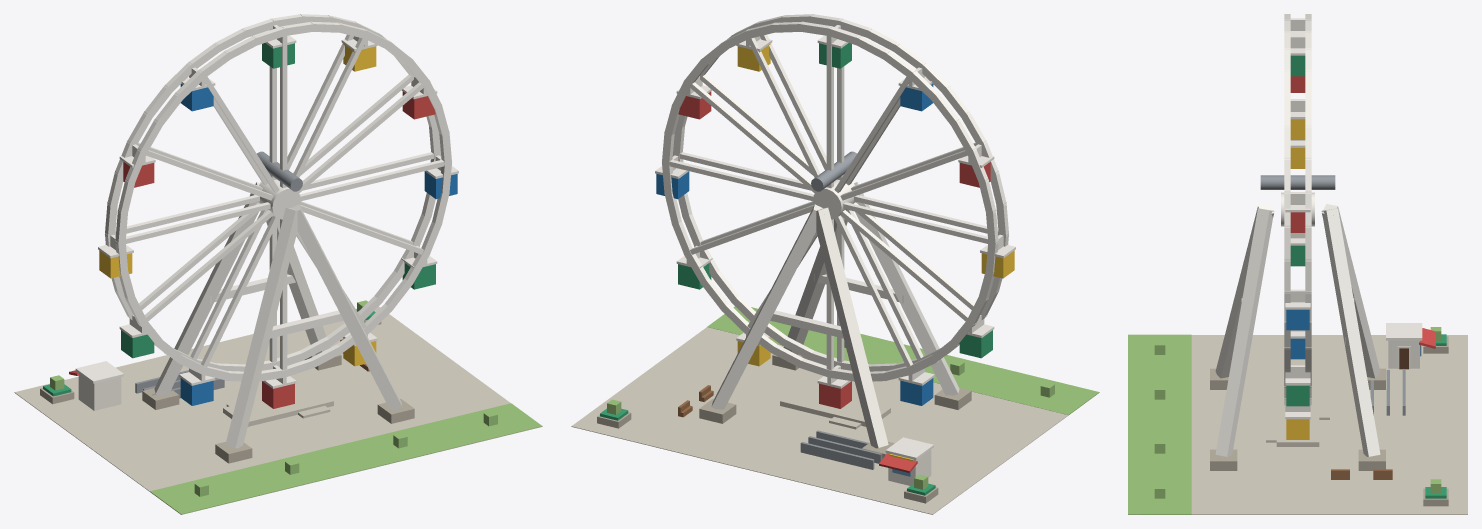
Rendered from wheel.glb.
3 views of the same model, side by side, from view 1: azimuth 30°, elevation 25°; view 2: azimuth 150°, elevation 25°; view 3: azimuth 270°, elevation 25° (orthographic).
Visible parts, largest first — view 1: plaza, spoke (×18), leg (×4), lawn, gondola_cabin (×3), boarding_platform, ticket_booth, leg_tie, hub, booth_roof, axle; view 2: plaza, spoke (×18), leg (×4), lawn, gondola_cabin (×3), boarding_platform, queue_rail (×2), leg_tie, hub, booth_roof, axle, ticket_booth; view 3: plaza, leg (×4), lawn, gondola_cabin (×3), boarding_platform, leg_foot (×2), axle, booth_roof, ticket_booth.
Part boxes in pixels (x1,y1,x2,y2): plaza: [14, 306, 542, 514]; spoke (×18): [115, 29, 444, 369]; leg (×4): [154, 181, 402, 448]; lawn: [150, 403, 542, 514]; gondola_cabin (×3): [121, 330, 294, 408]; boarding_platform: [223, 386, 333, 426]; ticket_booth: [78, 373, 121, 410]; leg_tie: [270, 310, 343, 338]; hub: [257, 179, 301, 219]; booth_roof: [75, 361, 123, 383]; axle: [257, 151, 302, 191]; plaza: [571, 327, 1099, 514]; spoke (×18): [669, 29, 998, 369]; leg (×4): [711, 181, 959, 448]; lawn: [707, 306, 1099, 415]; gondola_cabin (×3): [819, 330, 992, 408]; boarding_platform: [780, 386, 890, 426]; queue_rail (×2): [800, 436, 882, 469]; leg_tie: [770, 310, 843, 338]; hub: [812, 179, 856, 219]; booth_roof: [885, 437, 933, 459]; axle: [811, 151, 856, 191]; ticket_booth: [888, 449, 931, 485]; plaza: [1129, 335, 1467, 514]; leg (×4): [1215, 204, 1380, 456]; lawn: [1128, 334, 1191, 514]; gondola_cabin (×3): [1286, 309, 1309, 439]; boarding_platform: [1276, 397, 1319, 446]; leg_foot (×2): [1210, 449, 1385, 470]; axle: [1260, 175, 1335, 189]; booth_roof: [1386, 323, 1422, 340]; ticket_booth: [1388, 340, 1419, 368].
Size of the model in its own units: 40 by 40.88 by 32.
